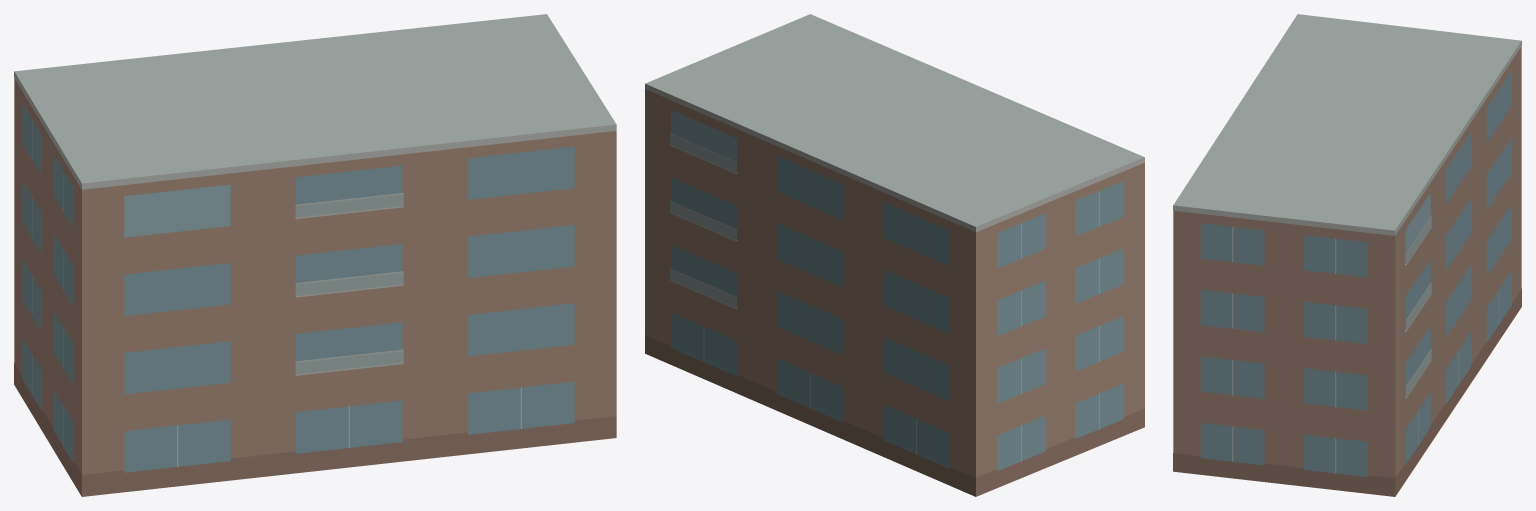
The model's file is survey-upis-32916154.glb.
3 renders of one model, left to right at view 1: azimuth 30°, elevation 25°; view 2: azimuth 150°, elevation 25°; view 3: azimuth 270°, elevation 25°, orthographic. The views are drawn at different scales.
Parts seen in each view (by area): view 1: survey-upis-32916154.tmp; view 2: survey-upis-32916154.tmp; view 3: survey-upis-32916154.tmp.
Boxes of the visible parts, box(x1,y1,x2,y2) form: survey-upis-32916154.tmp: box(14, 14, 616, 496); survey-upis-32916154.tmp: box(645, 14, 1144, 496); survey-upis-32916154.tmp: box(1173, 14, 1521, 496).
Size of the model in its own units: 21.3 by 12.2 by 14.49.
